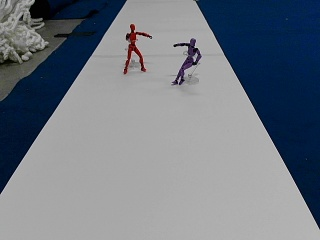pedestrian: (123, 23, 152, 73), (172, 37, 201, 84)
